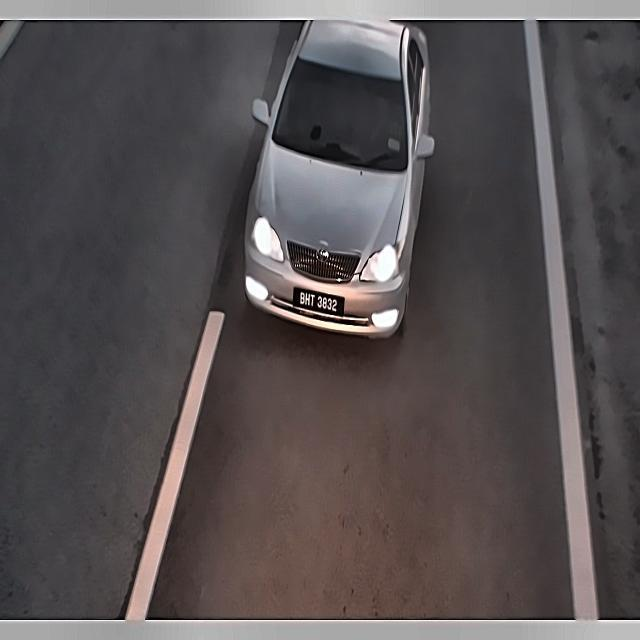car: (290, 282, 348, 319)
